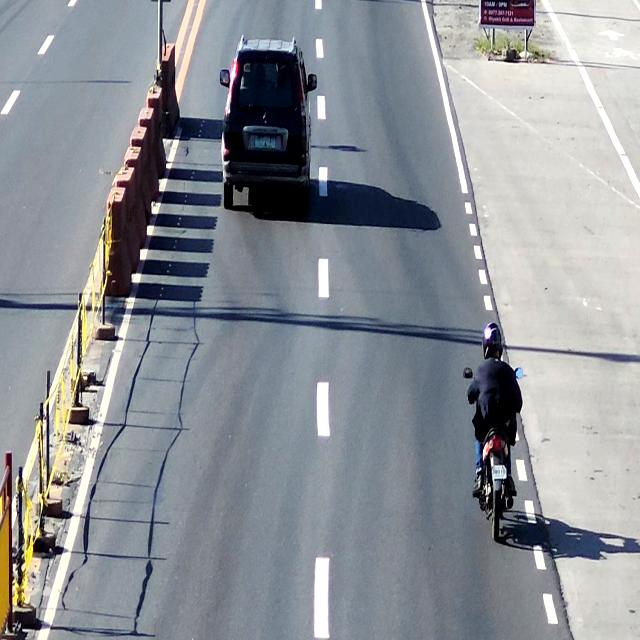Car: (220, 42, 316, 208)
License-Plate: (255, 132, 277, 151), (487, 464, 509, 480)
Motorcycle: (462, 325, 526, 549)
